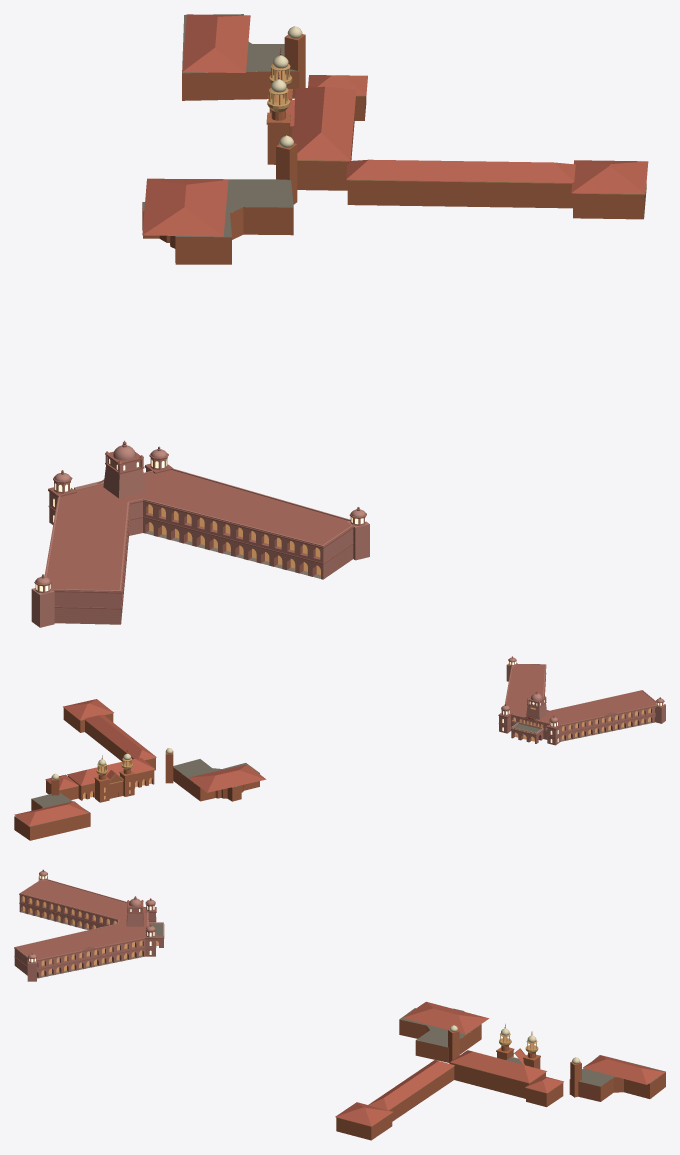
Rendered from gpo_high_court.glb.
The picture shows the model from 3 angles, top to bottom: view 1: azimuth 30°, elevation 25°; view 2: azimuth 150°, elevation 25°; view 3: azimuth 270°, elevation 25°; orthographic projection. The views are drawn at different scales.
Parts seen in each view (by area): view 1: m_hc_tile, m_hc_brick, m_gpo_band, m_gpo_brick, m_gpo_rustic, m_flat_roof, m_arch_dark, m_hc_cream; view 2: m_hc_brick, m_hc_tile, m_gpo_band, m_gpo_brick, m_flat_roof, m_gpo_rustic, m_arch_dark, m_hc_cream; view 3: m_hc_brick, m_hc_tile, m_gpo_band, m_gpo_brick, m_gpo_rustic, m_flat_roof, m_arch_dark, m_hc_cream.
Boxes of the visible parts, left/top/right/bottom form: m_hc_tile: left=142, top=14, right=648, bottom=236; m_hc_brick: left=142, top=34, right=646, bottom=264; m_gpo_band: left=34, top=46, right=366, bottom=618; m_gpo_brick: left=31, top=455, right=369, bottom=627; m_gpo_rustic: left=49, top=507, right=353, bottom=624; m_flat_roof: left=142, top=14, right=299, bottom=237; m_arch_dark: left=148, top=70, right=320, bottom=575; m_hc_cream: left=267, top=64, right=644, bottom=194; m_hc_brick: left=14, top=708, right=259, bottom=840; m_hc_tile: left=14, top=699, right=266, bottom=826; m_gpo_band: left=101, top=656, right=664, bottom=759; m_gpo_brick: left=499, top=661, right=665, bottom=736; m_flat_roof: left=15, top=724, right=540, bottom=826; m_gpo_rustic: left=499, top=685, right=655, bottom=745; m_arch_dark: left=83, top=707, right=650, bottom=799; m_hc_cream: left=48, top=707, right=155, bottom=790; m_hc_brick: left=336, top=1011, right=665, bottom=1140; m_hc_tile: left=335, top=1001, right=665, bottom=1126; m_gpo_band: left=14, top=869, right=532, bottom=1034; m_gpo_brick: left=14, top=875, right=155, bottom=981; m_gpo_rustic: left=14, top=903, right=163, bottom=978; m_flat_roof: left=149, top=924, right=665, bottom=1086; m_arch_dark: left=22, top=896, right=534, bottom=1048; m_hc_cream: left=336, top=1033, right=563, bottom=1126.
Size of the model in its own units: 310 by 29.41 by 347.
15 materials, 1 textured.
